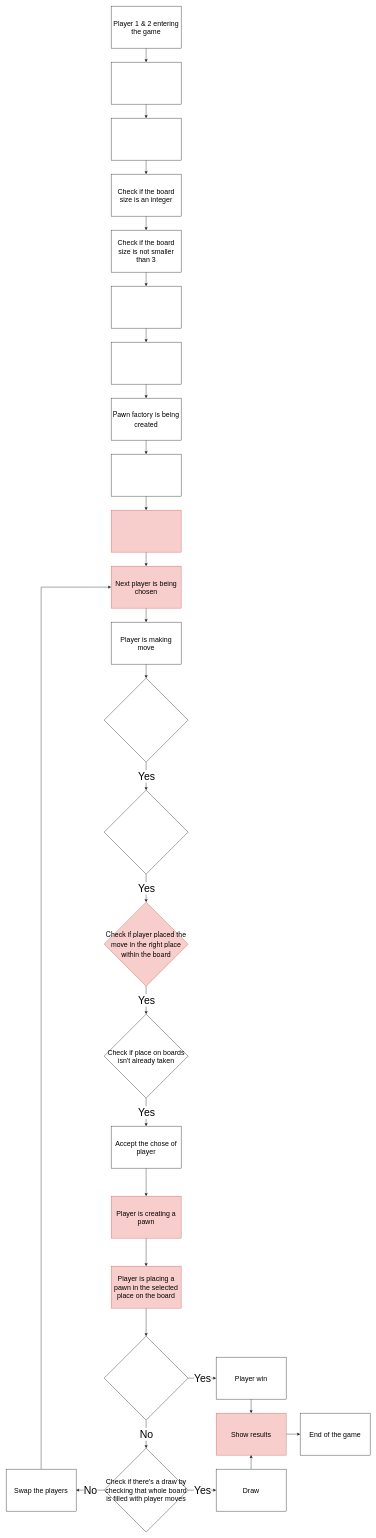
Image size: 376x1538. Some labels were removed from this diagram. The centre of each missing label's shape, as x and y in pixels:
"Board is being created" goes at (146,83).
"Check if game isn't finished" goes at (146,720).
"Check if player won by comparing board with winning combinations" goes at (146,1378).
"Check if the board size equals 3 or is bigger than 3" goes at (146,307).
"Check if the right player is making move" goes at (146,832).
"Create board with selected size" goes at (146,363).
"Player is being created" goes at (146,475).
"Players turns being randomized" goes at (146,531).
"Set the board size" goes at (146,139).
